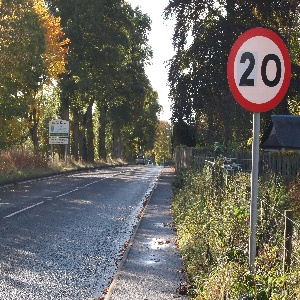20 speed: (227, 28, 291, 112)
